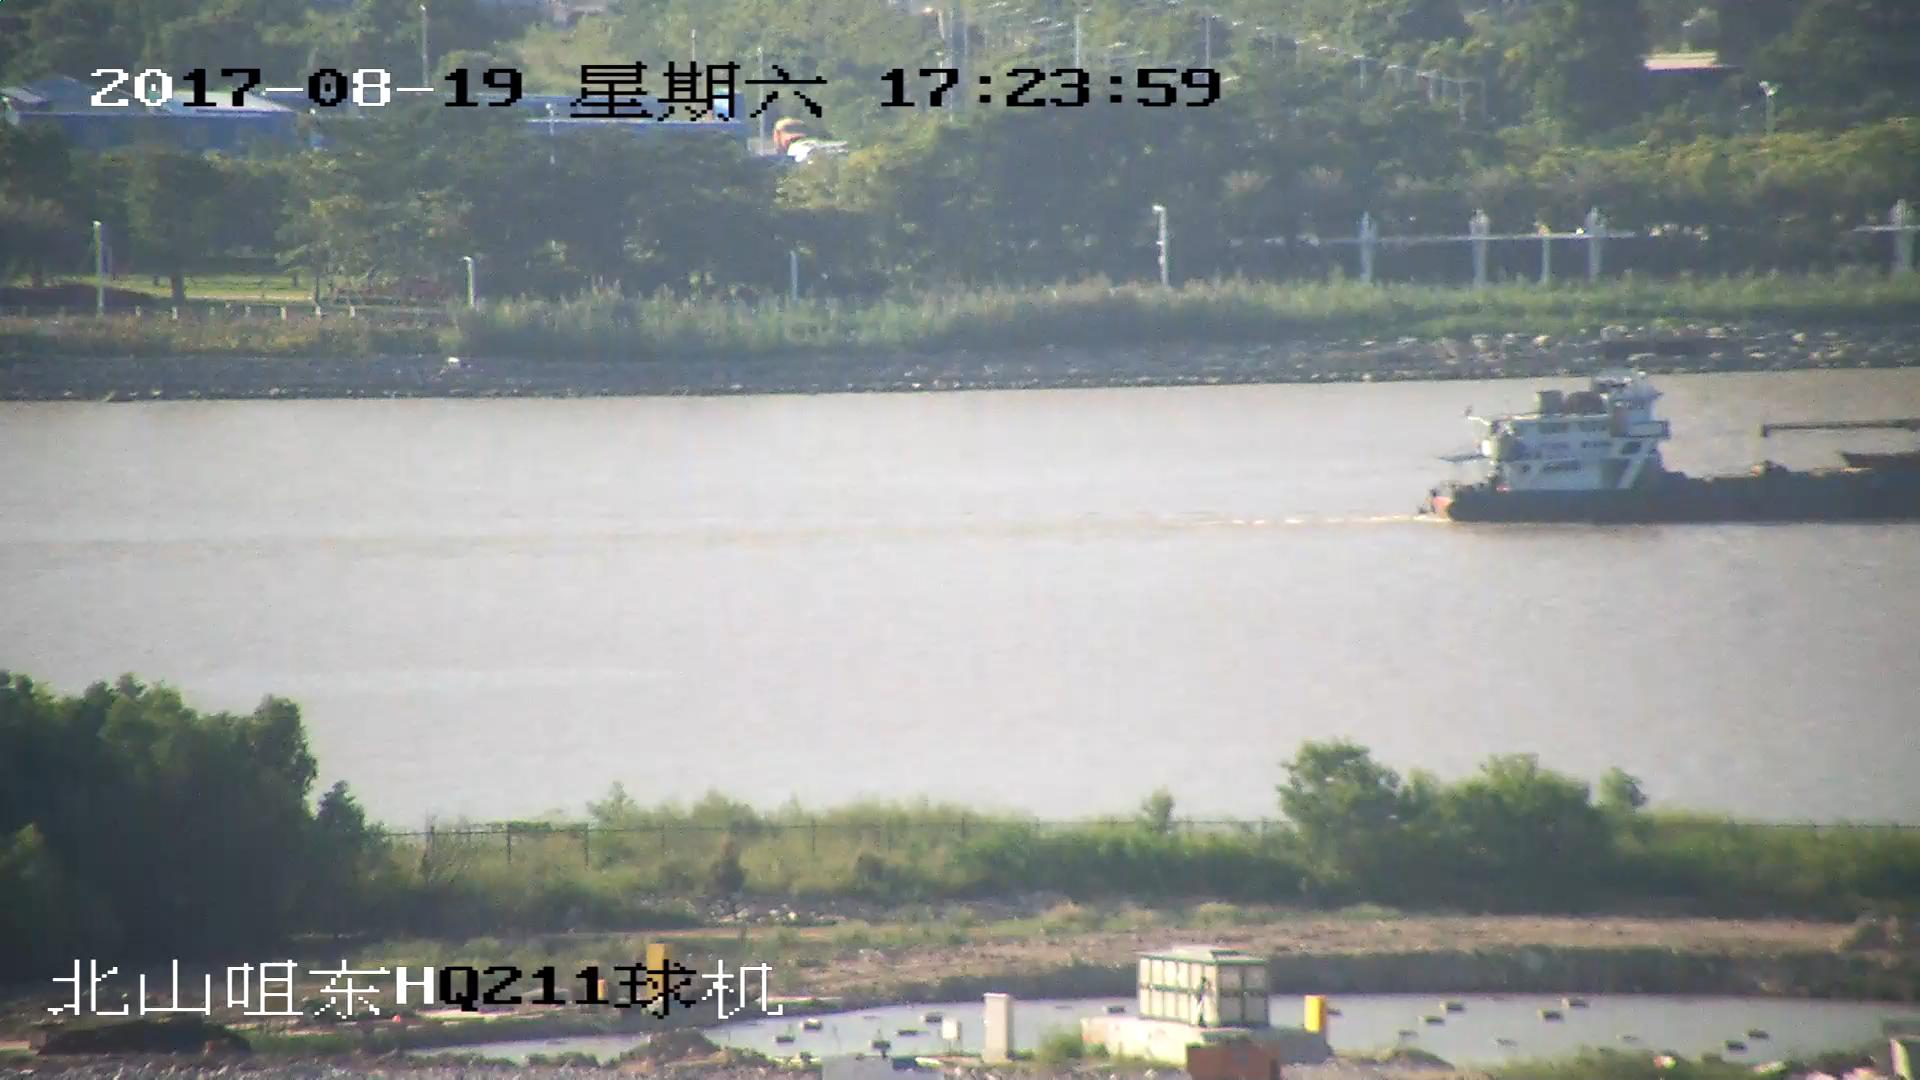bulk cargo carrier: (1435, 382, 1920, 520)
